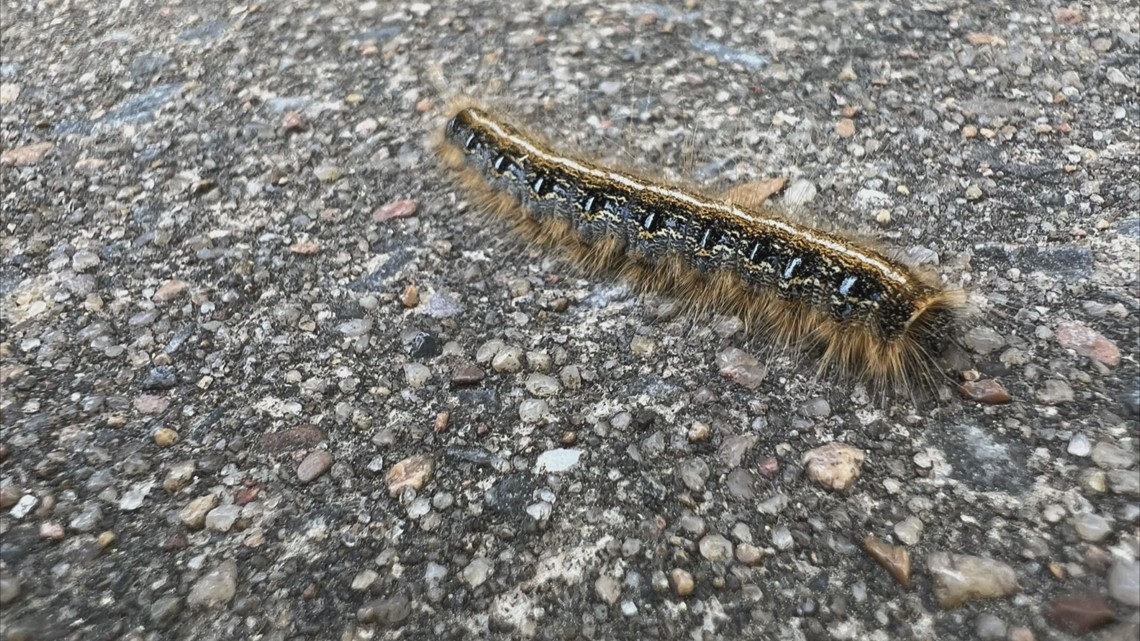Caterpillar: (428, 87, 976, 398)
